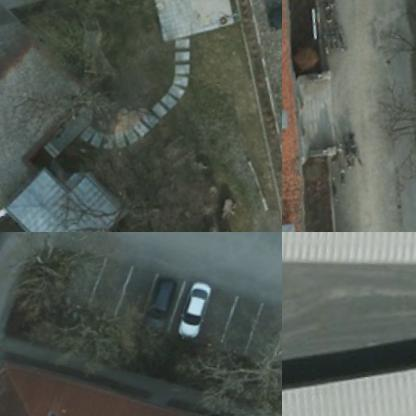car: (138, 272, 180, 336), (180, 278, 214, 340), (265, 0, 281, 37)
